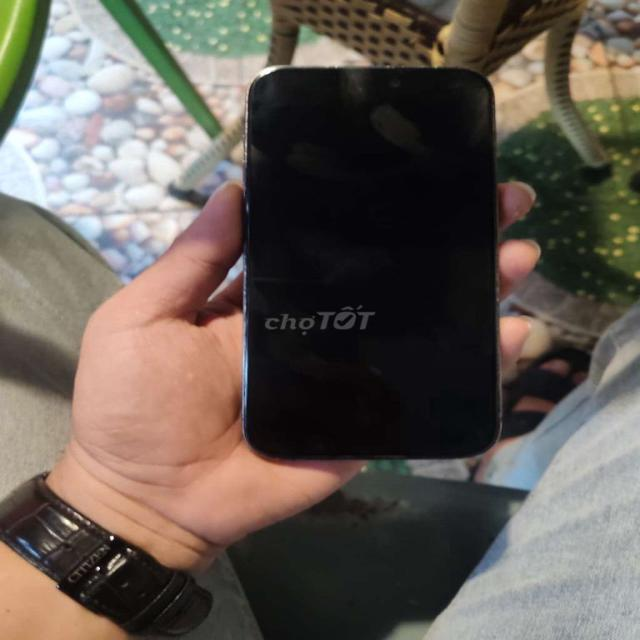scratch: (272, 54, 489, 74)
